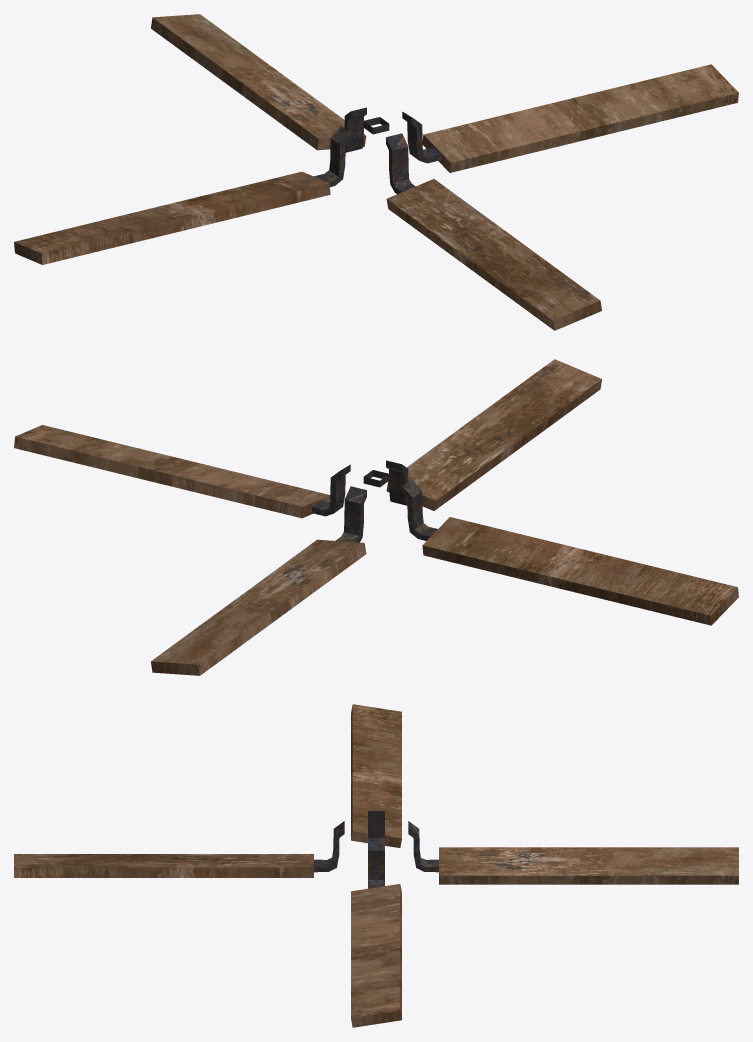
File: ceiling_fan_blades.glb
The picture shows the model from 3 angles, top to bottom: view 1: azimuth 30°, elevation 25°; view 2: azimuth 150°, elevation 25°; view 3: azimuth 270°, elevation 25°; orthographic projection. The views are drawn at different scales.
Parts seen in each view (by area): view 1: CeilingFanBlades; view 2: CeilingFanBlades; view 3: CeilingFanBlades.
Part boxes in pixels (x1,y1,x2,y2): CeilingFanBlades: [14, 14, 738, 330]; CeilingFanBlades: [14, 359, 738, 675]; CeilingFanBlades: [14, 704, 738, 1027].
Bounding box in the file's own units: 2.27 × 0.1738 × 2.27.
Materials: 2 (2 with a texture image).
